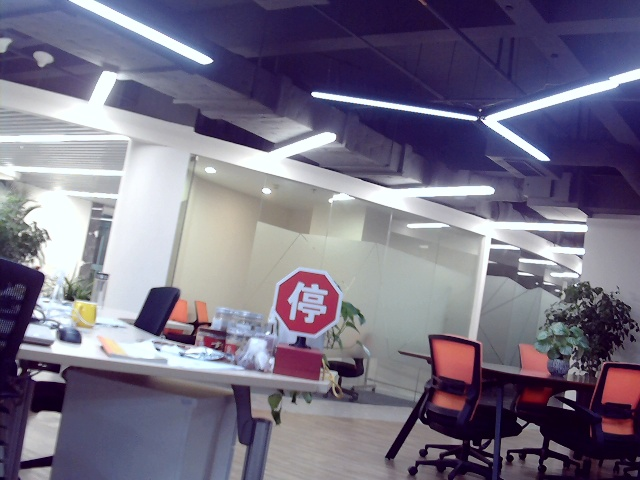stop: (286, 278, 330, 325)
